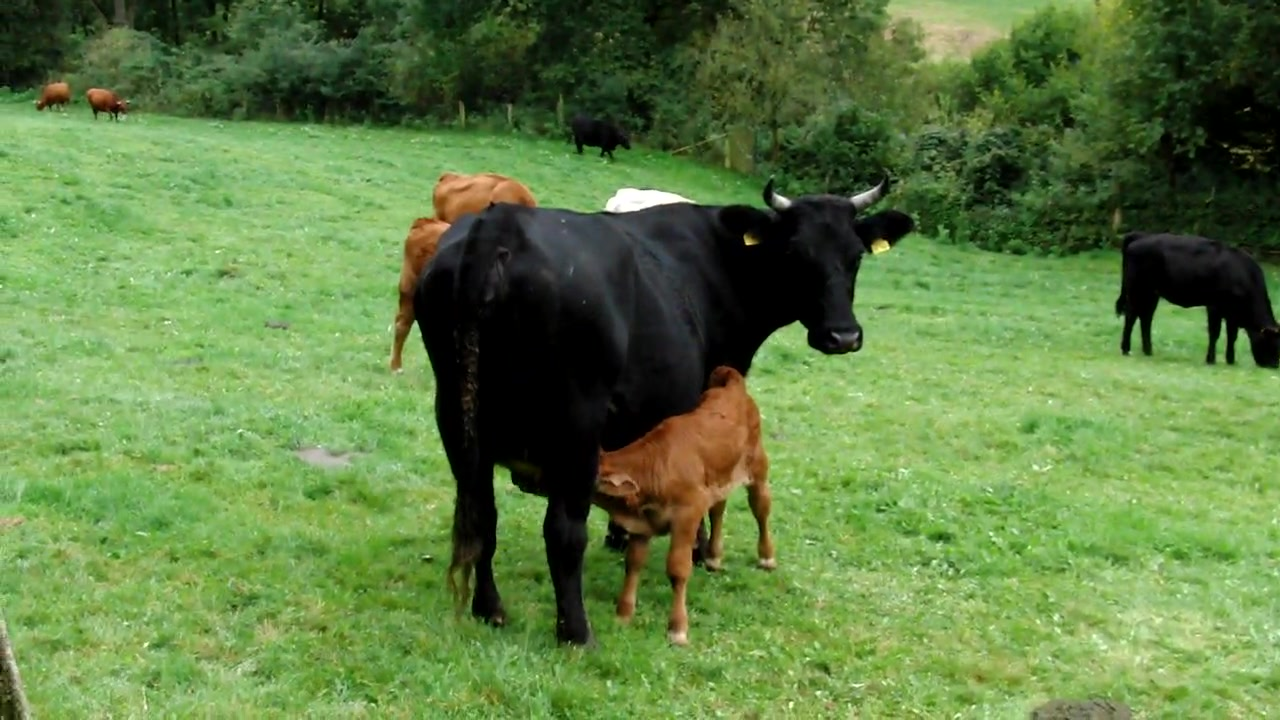cow: (410, 176, 922, 649)
